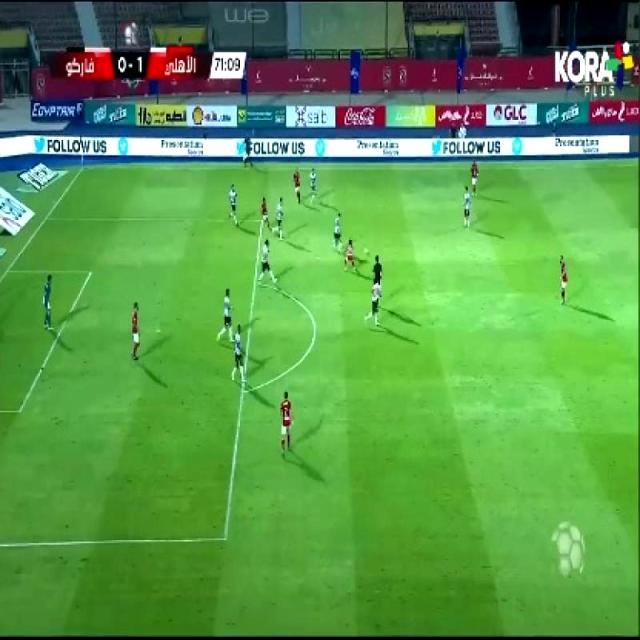bigarea_bottom_inner: (218, 523, 232, 549)
bigarea_top_inner: (257, 216, 267, 228)
bigarea_top_outter: (42, 212, 52, 223)
bottom_arc_area_intersection: (238, 382, 250, 396)
corner: (77, 163, 96, 172)
smallarea_bottom_inner: (10, 397, 25, 420)
smallarea_top_inner: (85, 264, 95, 278)
smallarea_top_outter: (1, 263, 12, 277)
top_arc_area_intersection: (248, 274, 262, 290)
